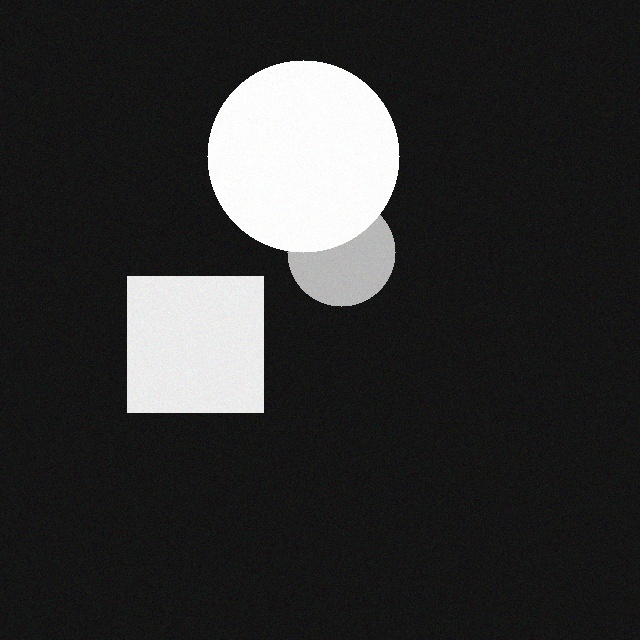circle: (221, 55, 413, 247), (301, 193, 409, 301)
square: (141, 271, 277, 407)
